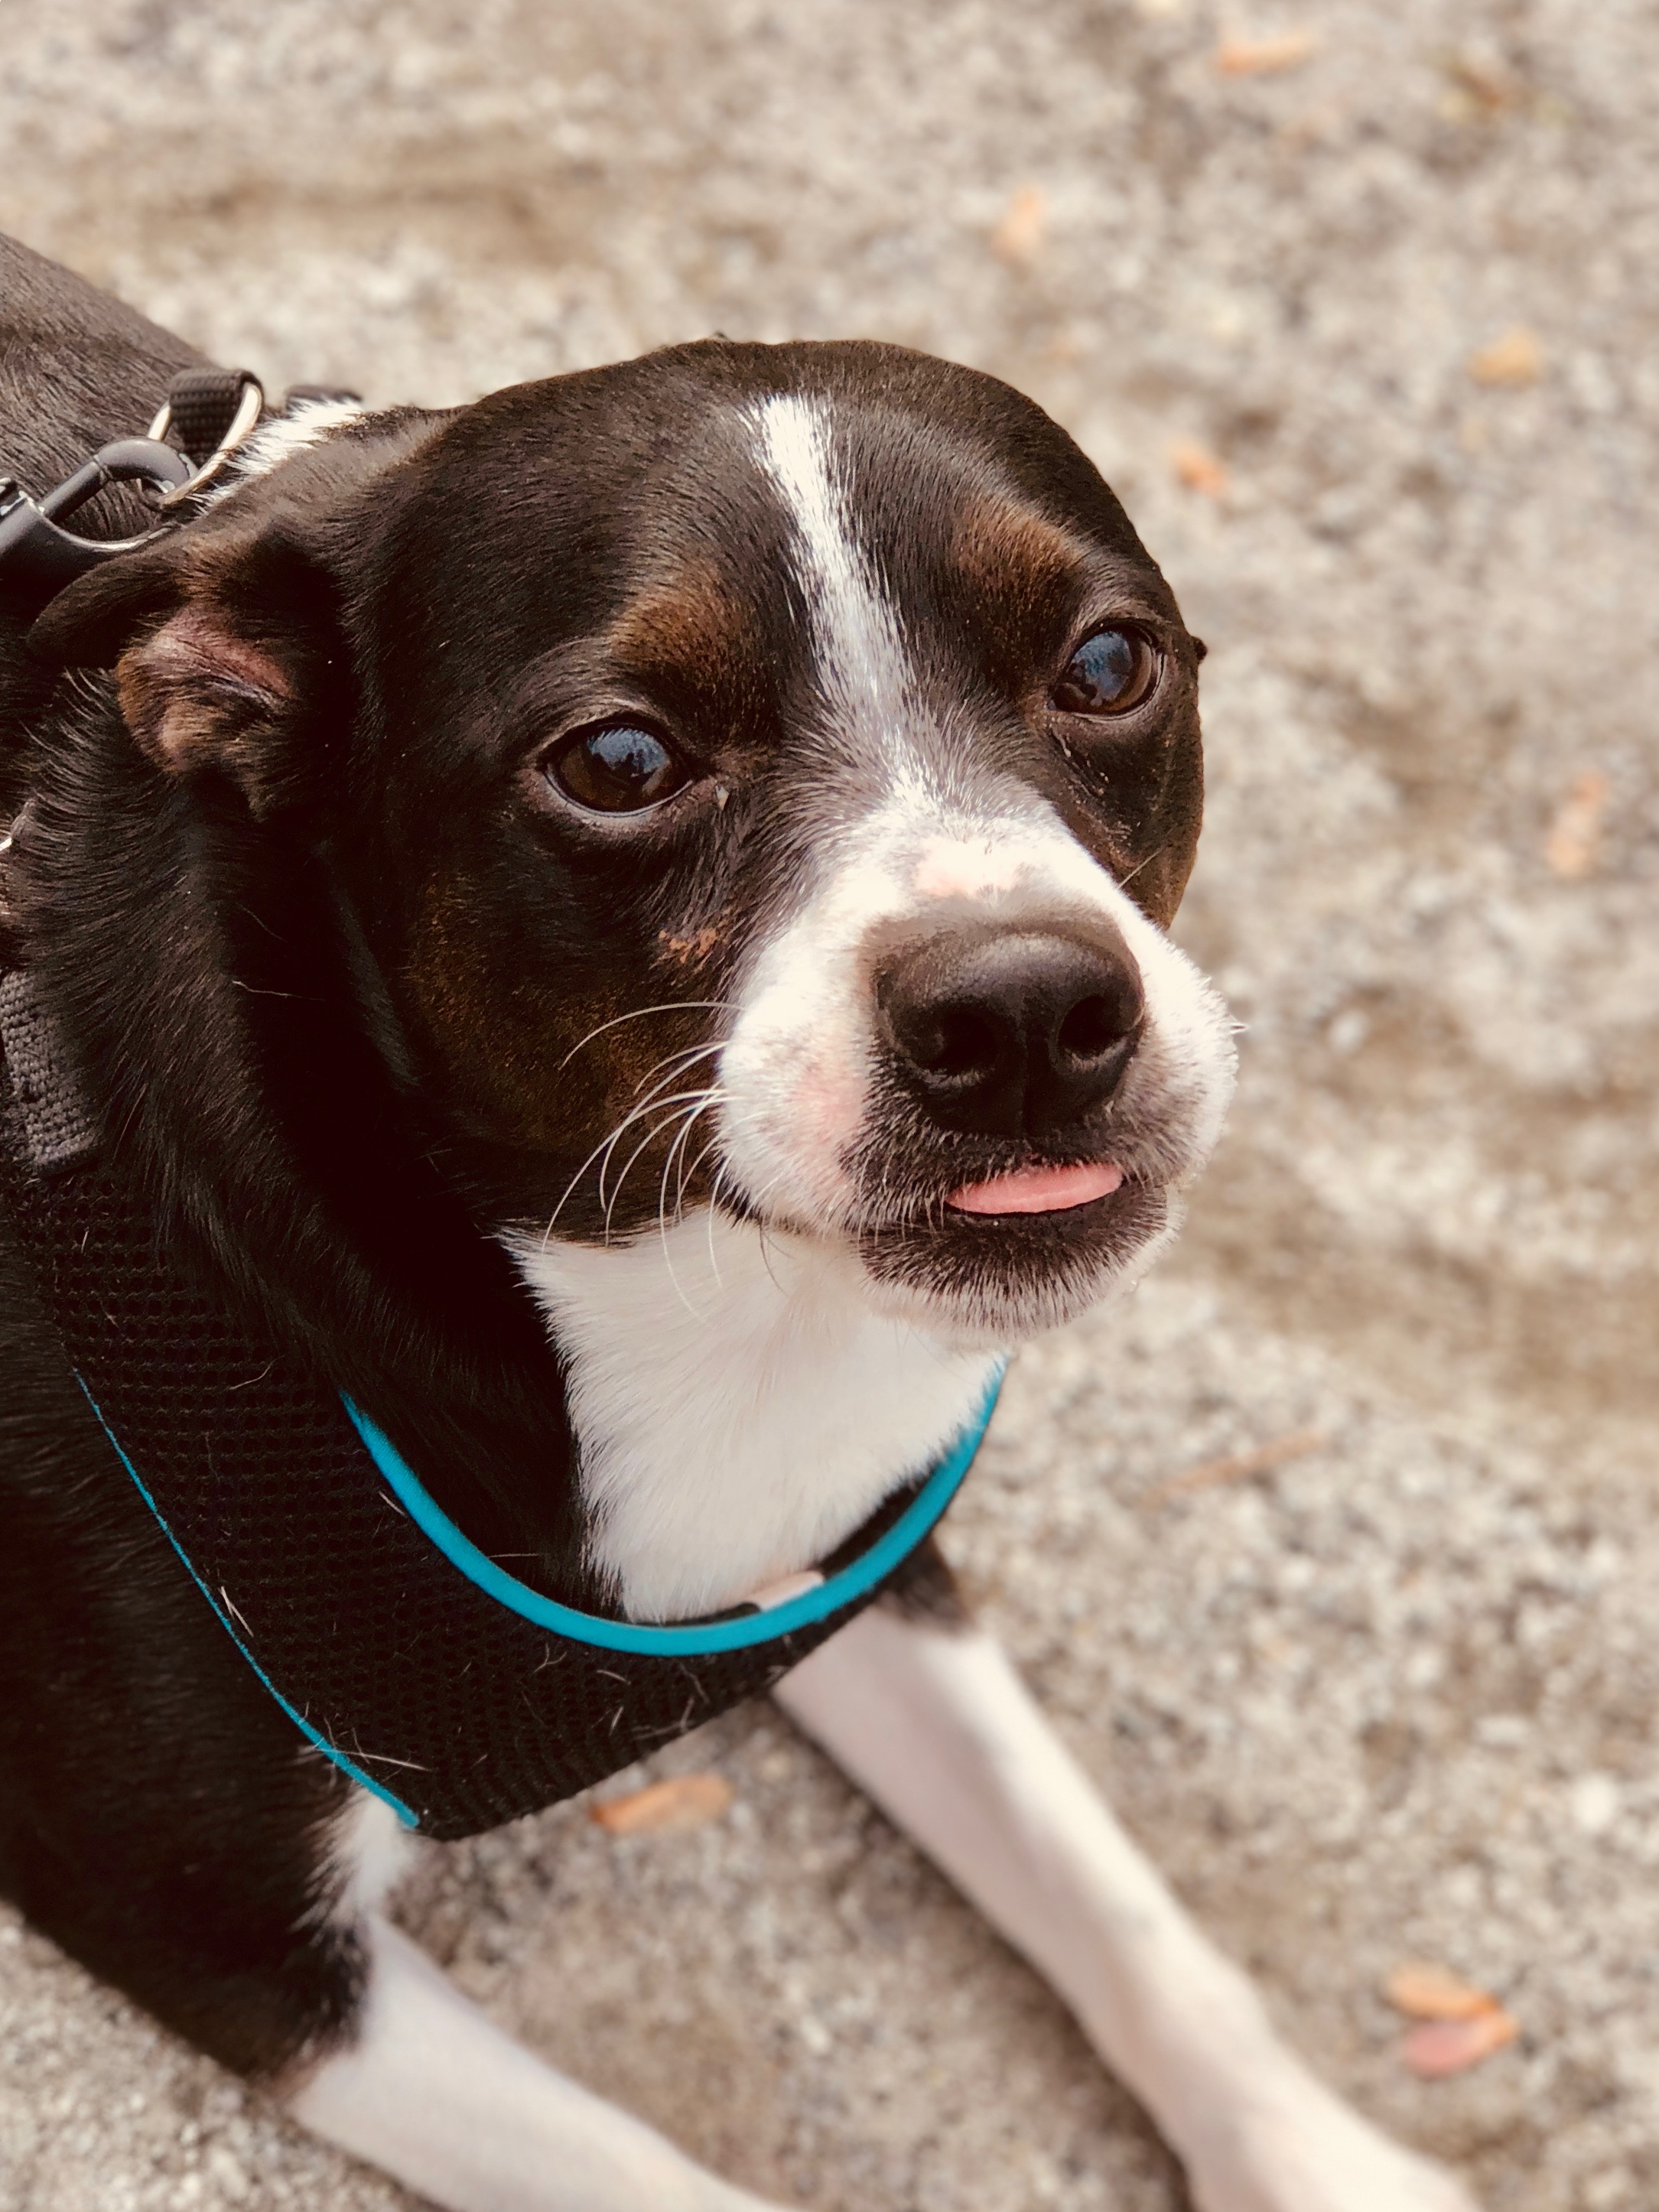Harley: (2, 197, 1453, 2212)
